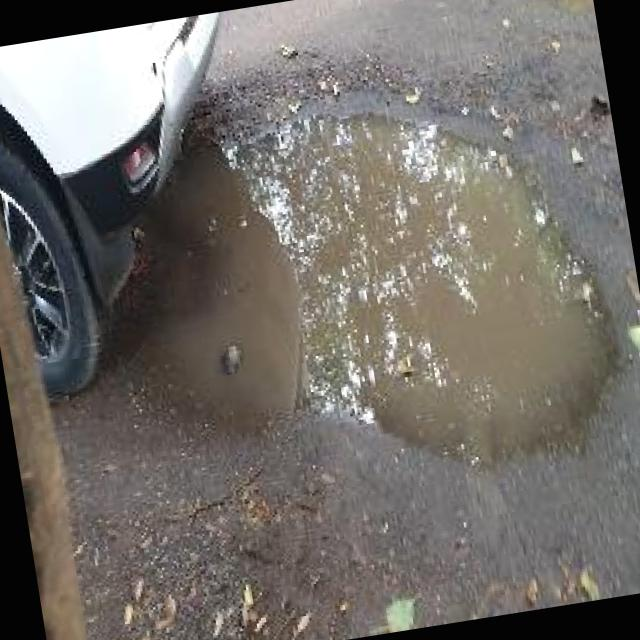stagnation: (91, 114, 640, 502)
